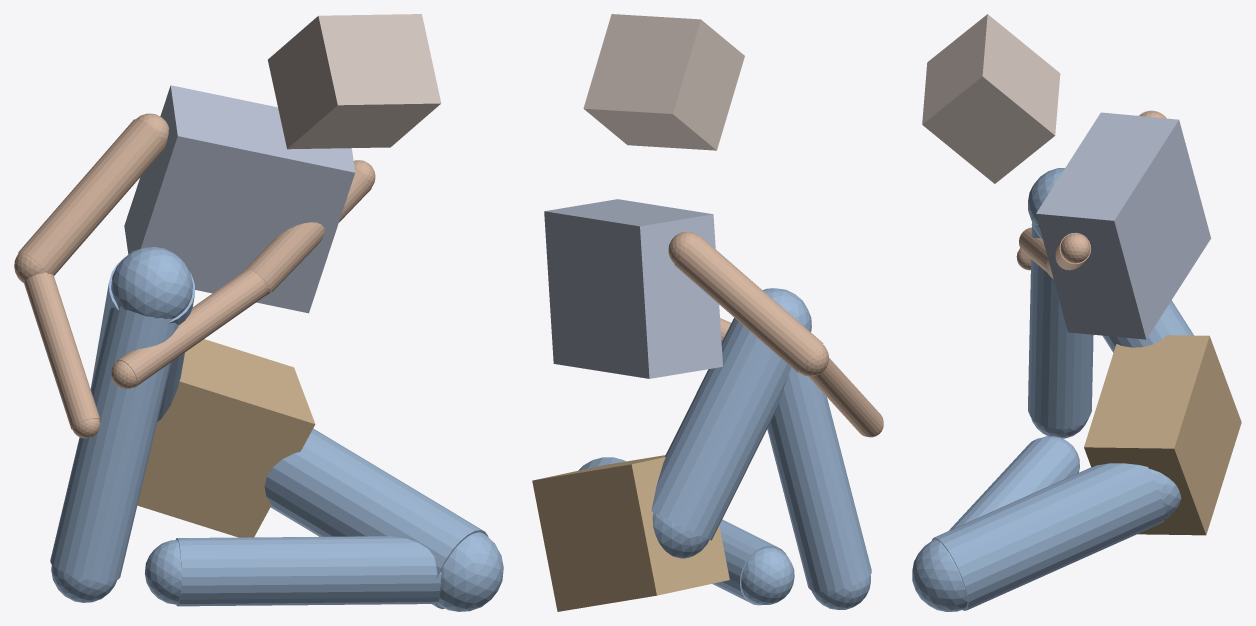
The model's file is front_maquette_original_filtered.glb.
3 views of the same model, side by side, from view 1: azimuth 30°, elevation 25°; view 2: azimuth 150°, elevation 25°; view 3: azimuth 270°, elevation 25° (orthographic). The views are drawn at different scales.
Visible parts, largest first — view 1: world; view 2: world; view 3: world.
Part boxes in pixels (x1,y1,x2,y2): world: [14, 14, 503, 611]; world: [532, 14, 883, 611]; world: [912, 14, 1241, 611].
Bounding box in the file's own units: 0.6155 × 0.9376 × 0.5165.
